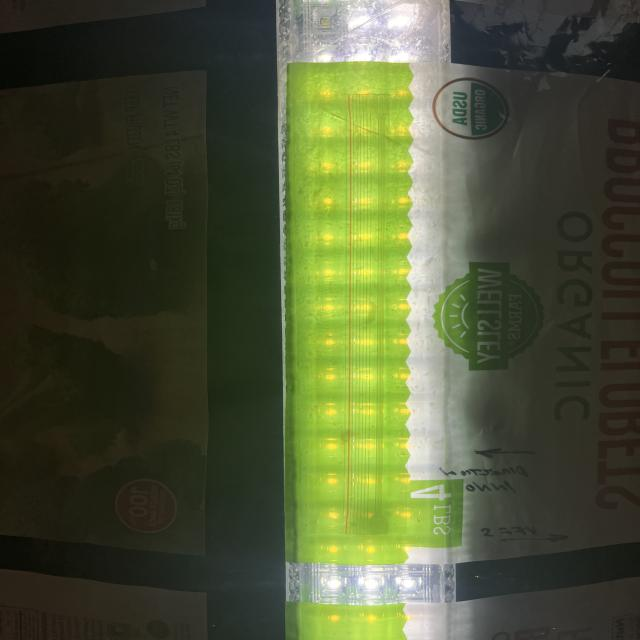zip_l: (306, 93, 414, 535)
